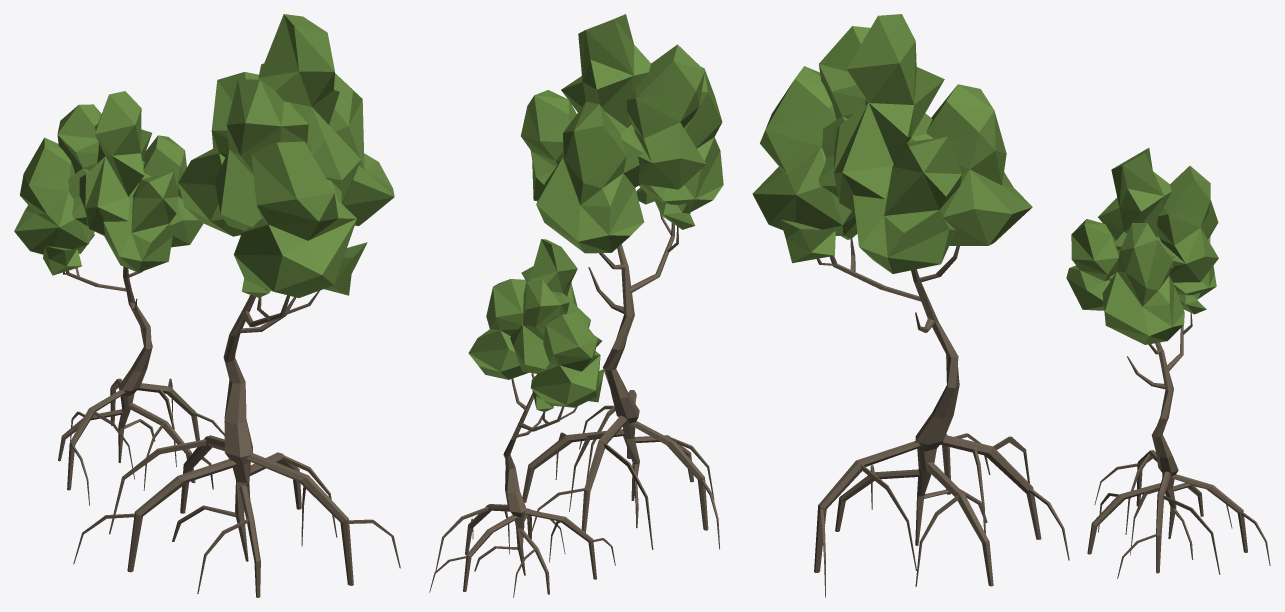
Rendered from untitleed.glb.
The picture shows the model from 3 angles, left to right: view 1: azimuth 30°, elevation 25°; view 2: azimuth 150°, elevation 25°; view 3: azimuth 270°, elevation 25°; orthographic projection. The views are drawn at different scales.
Visible parts, largest first — view 1: Mangrove Tree 2.001, Mangrove Tree 2; view 2: Mangrove Tree 2.001, Mangrove Tree 2; view 3: Mangrove Tree 2.001, Mangrove Tree 2.
Boxes of the visible parts, x1,y1,x2,y2 form: Mangrove Tree 2.001: (73, 14, 400, 597); Mangrove Tree 2: (14, 91, 224, 505); Mangrove Tree 2.001: (521, 14, 723, 549); Mangrove Tree 2: (429, 239, 615, 597); Mangrove Tree 2.001: (752, 14, 1069, 597); Mangrove Tree 2: (1066, 148, 1270, 578).
Size of the model in its own units: 3.16 by 6.13 by 5.28.
2 materials, 2 textured.
